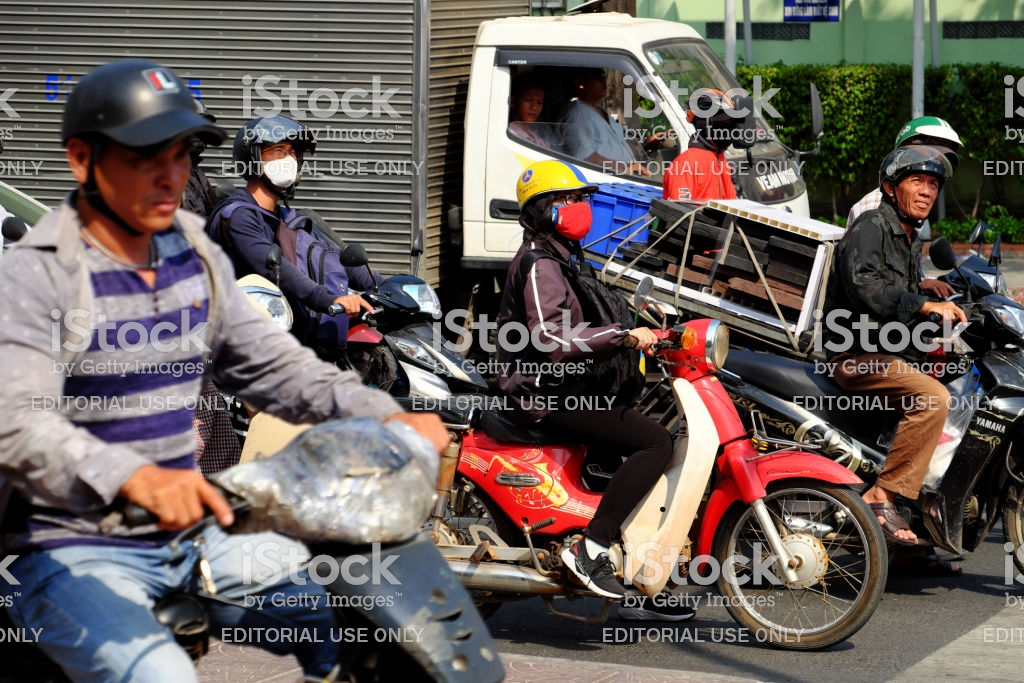helmet: (69, 57, 207, 152), (874, 139, 952, 181), (511, 163, 597, 198)
